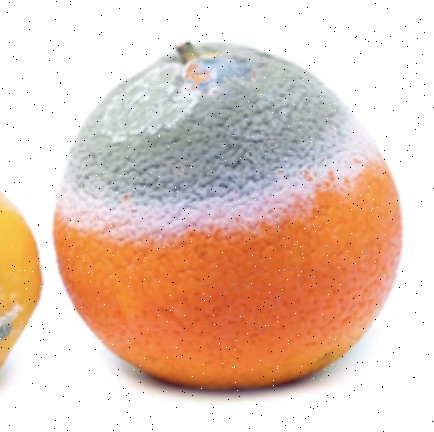rotten_orange: (53, 42, 404, 391)
